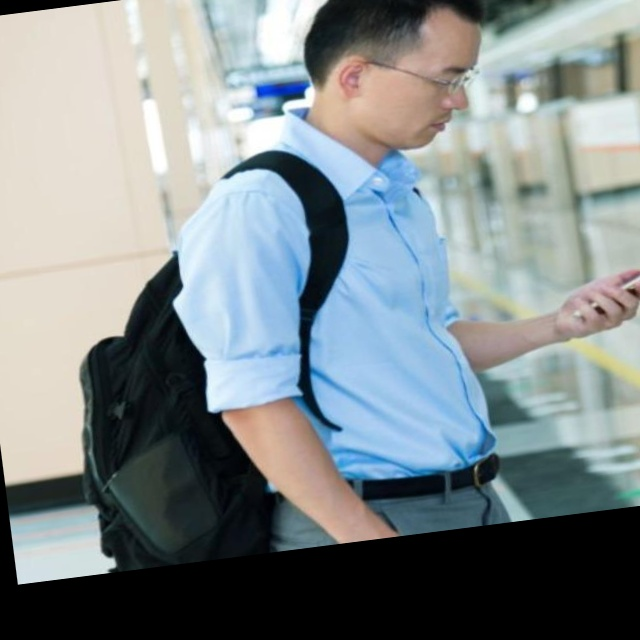Sin_Casco_Mascarrilla: (287, 0, 502, 162)
Sin_Chaleco: (168, 129, 512, 502)
